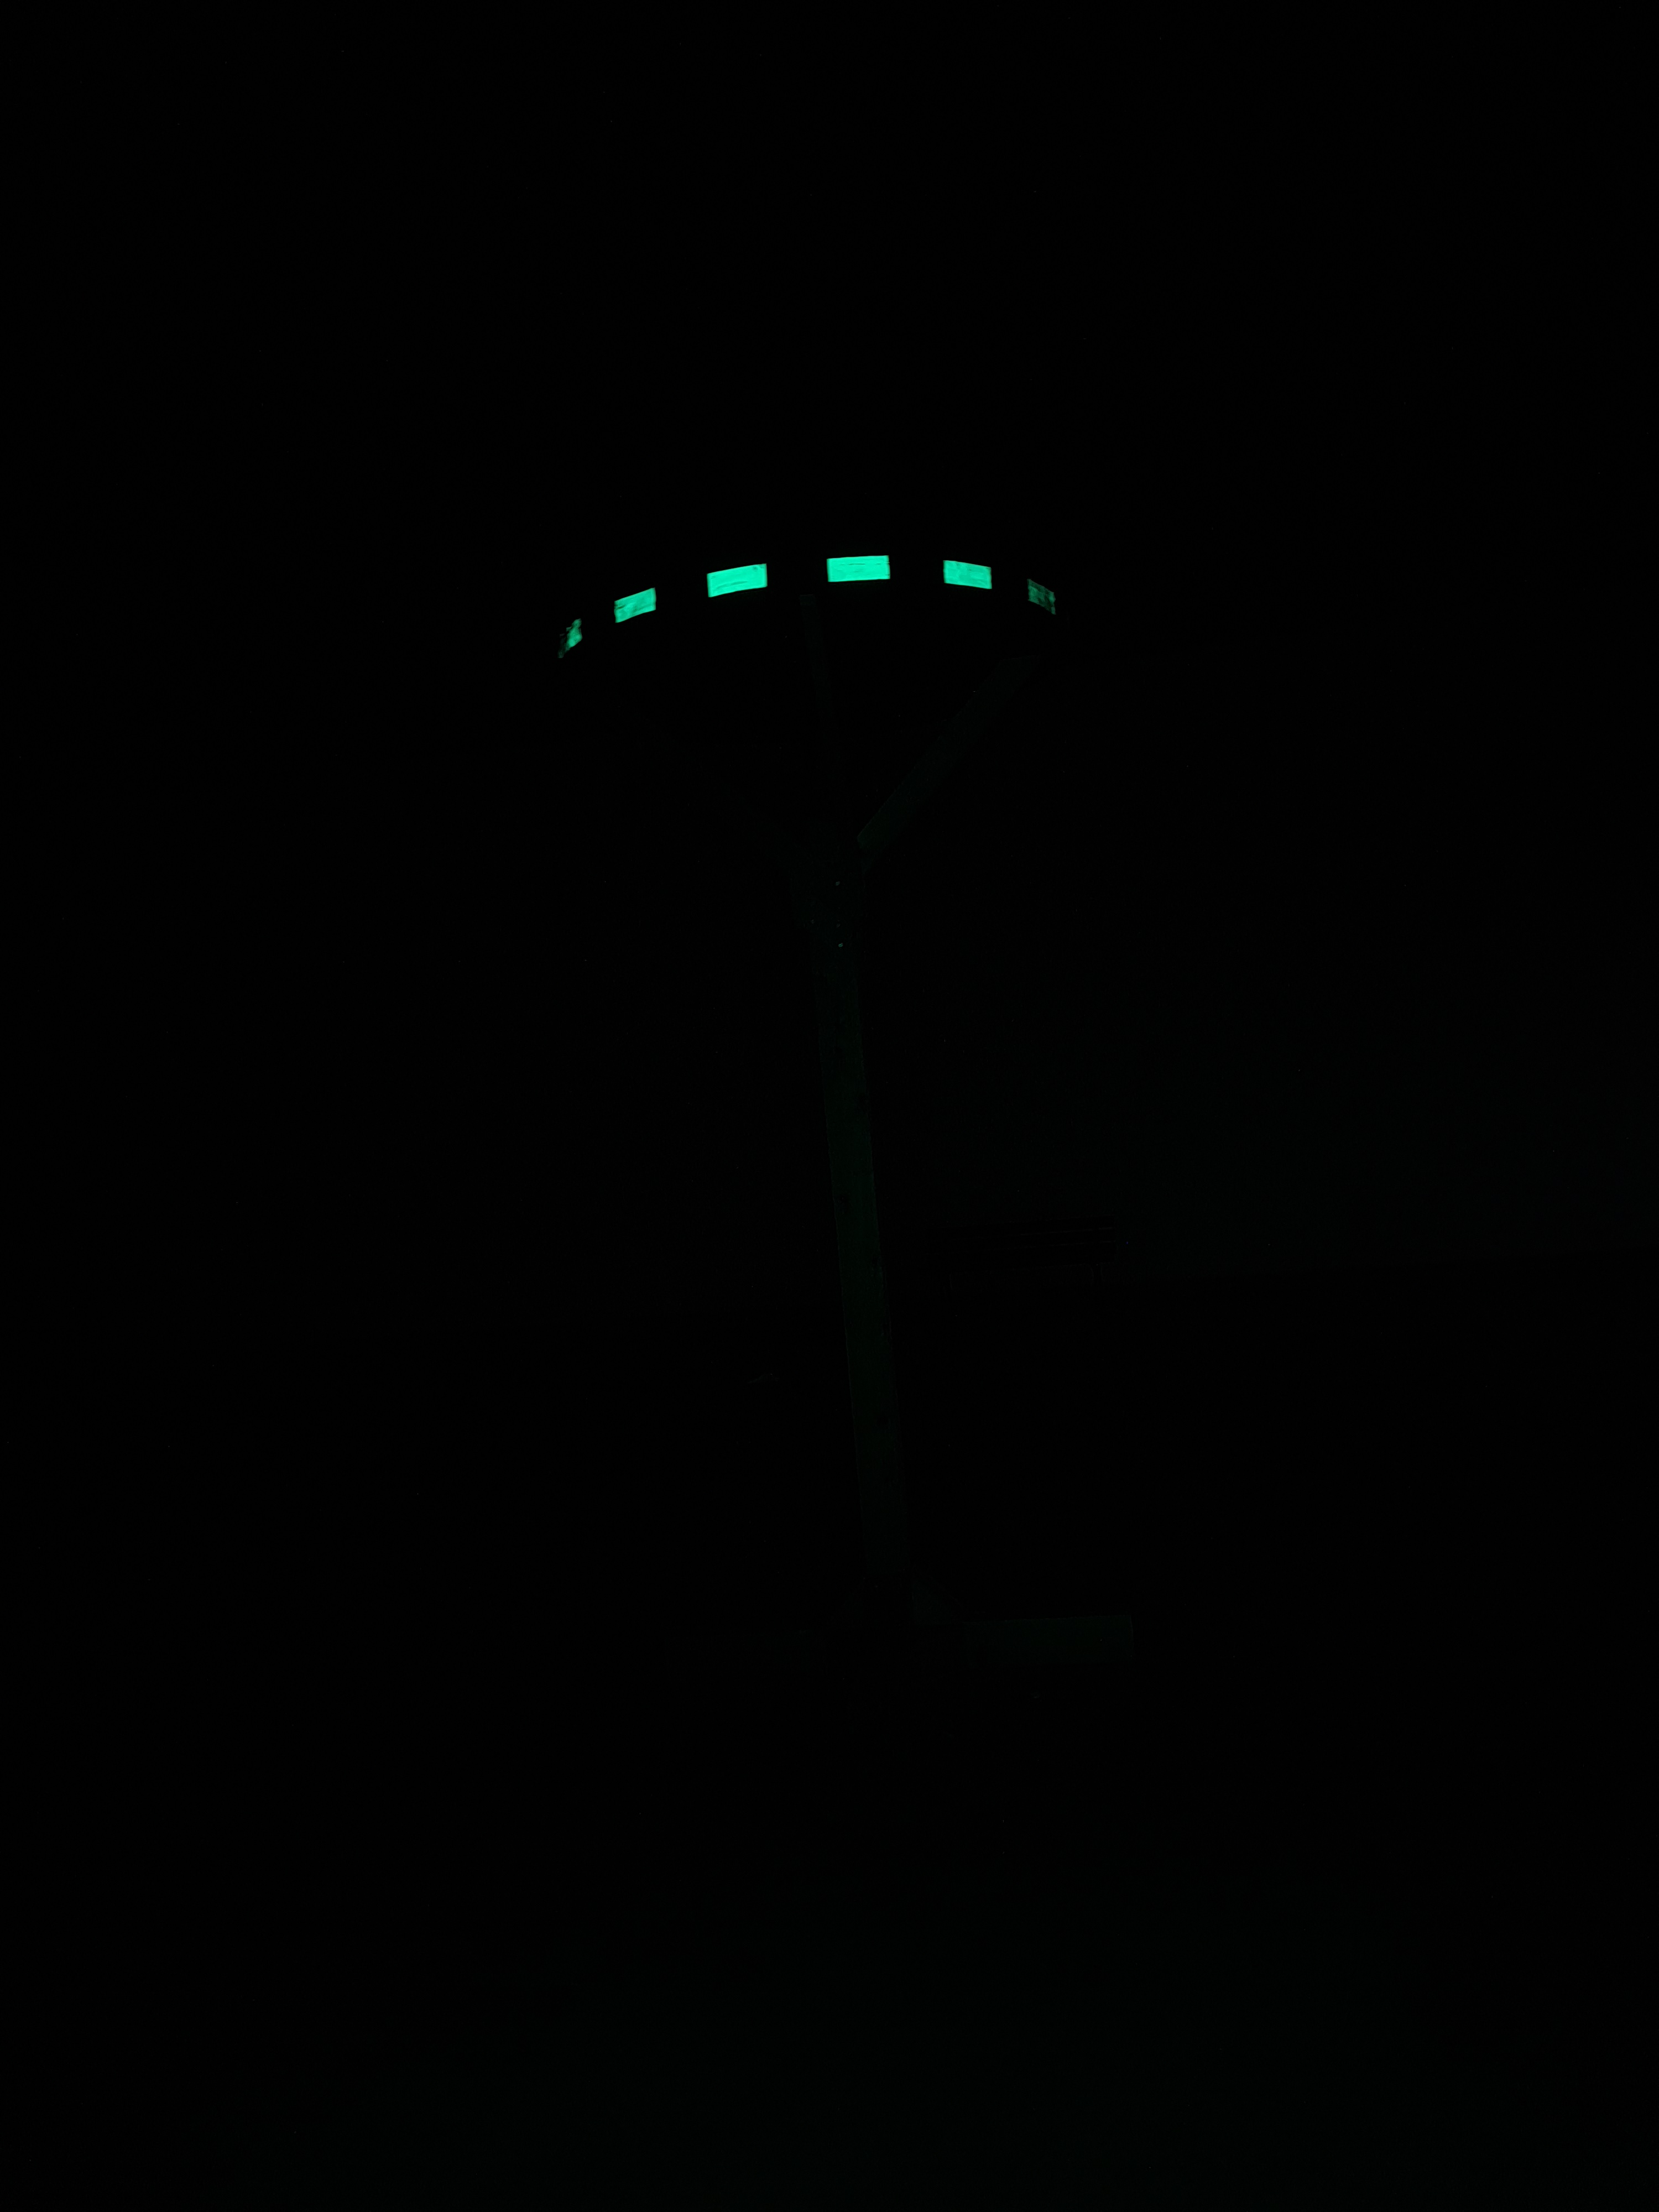hoop: (552, 549, 1066, 665)
